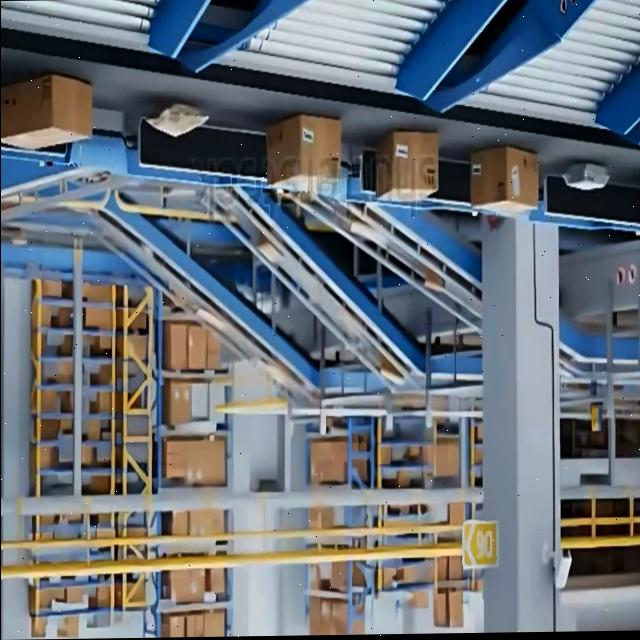product 1: (265, 112, 341, 196), (468, 145, 538, 216), (374, 129, 438, 203)
product 2: (144, 97, 208, 138)
